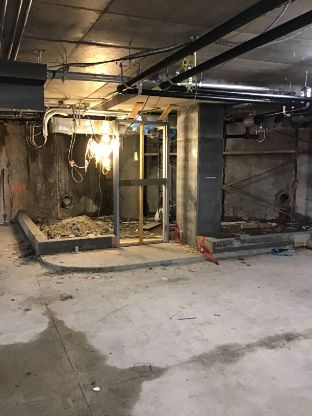Duct: (46, 111, 125, 139)
